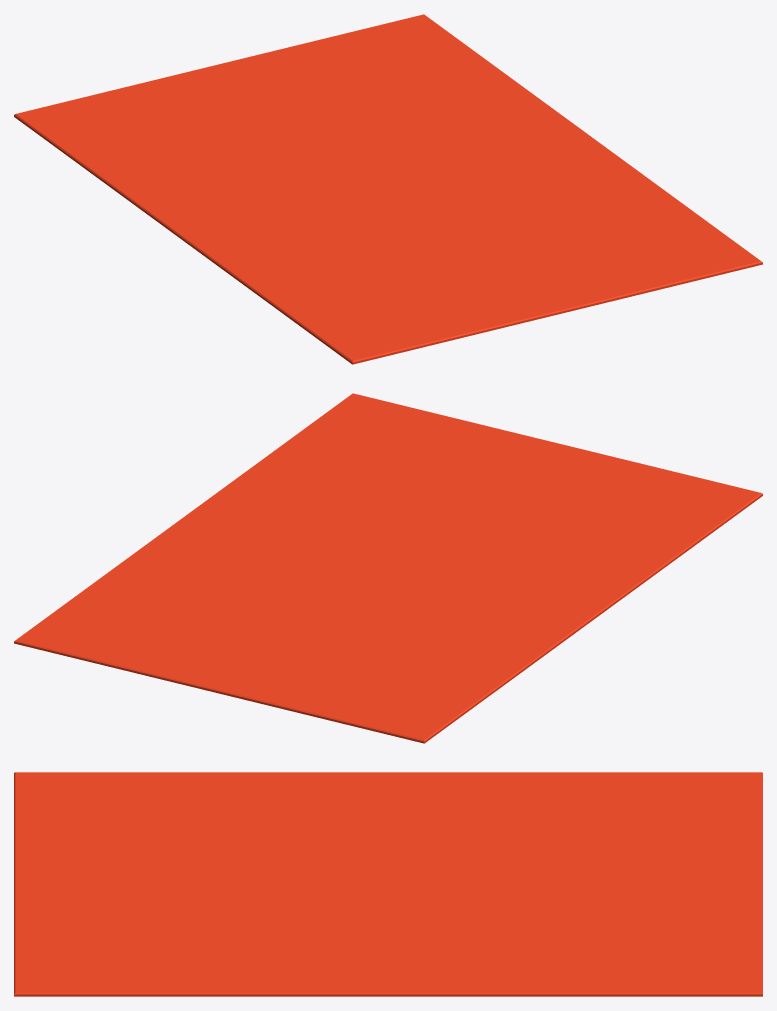
Rendered from SM_Court_Basketball_Small_City.fbx.
The picture shows the model from 3 angles, top to bottom: view 1: azimuth 30°, elevation 25°; view 2: azimuth 150°, elevation 25°; view 3: azimuth 270°, elevation 25°; orthographic projection. The views are drawn at different scales.
Visible parts, largest first — view 1: SM_Court_Basketball_Small_City; view 2: SM_Court_Basketball_Small_City; view 3: SM_Court_Basketball_Small_City.
Part boxes in pixels (x1,y1,x2,y2): SM_Court_Basketball_Small_City: (14, 14, 762, 364); SM_Court_Basketball_Small_City: (14, 393, 762, 743); SM_Court_Basketball_Small_City: (14, 772, 762, 996).
Bounding box in the file's own units: 14 × 0.1 × 20.
